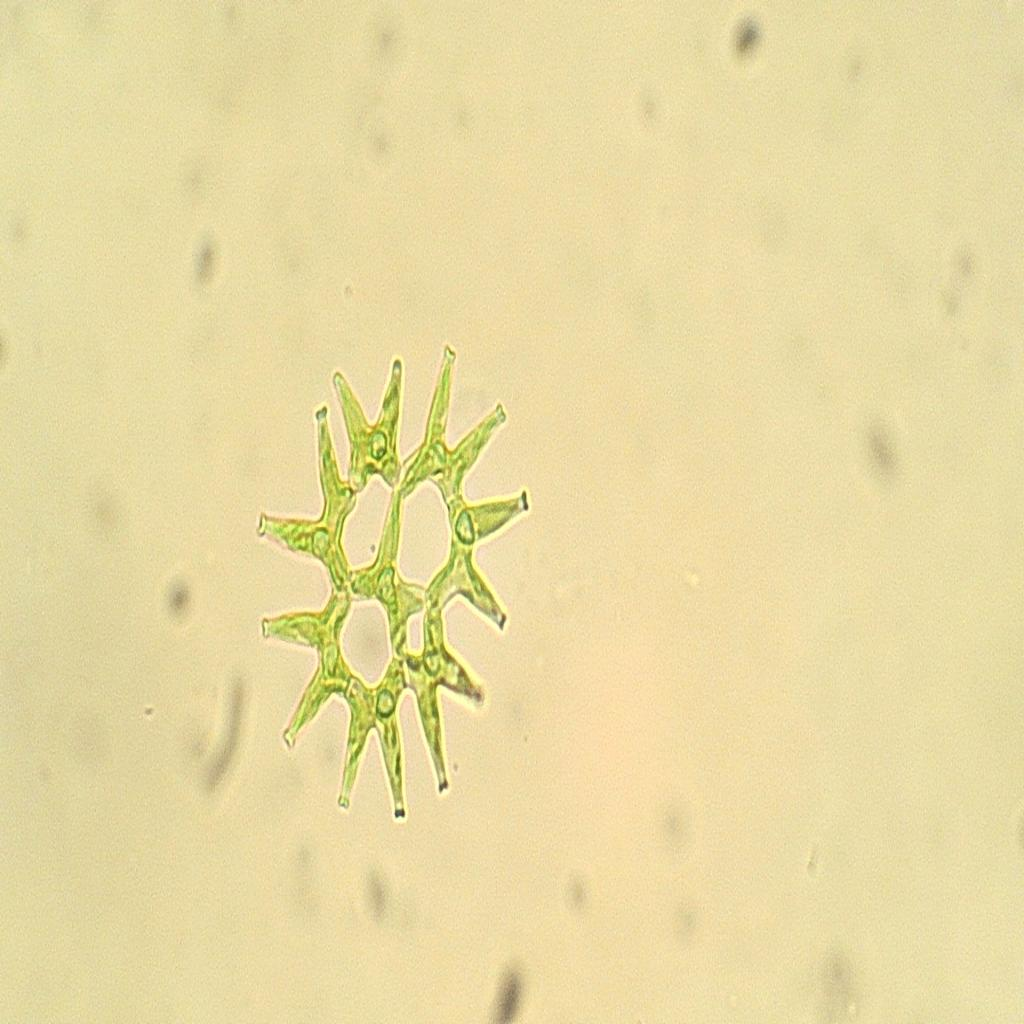Pediastrum_75T: (246, 333, 543, 832)
